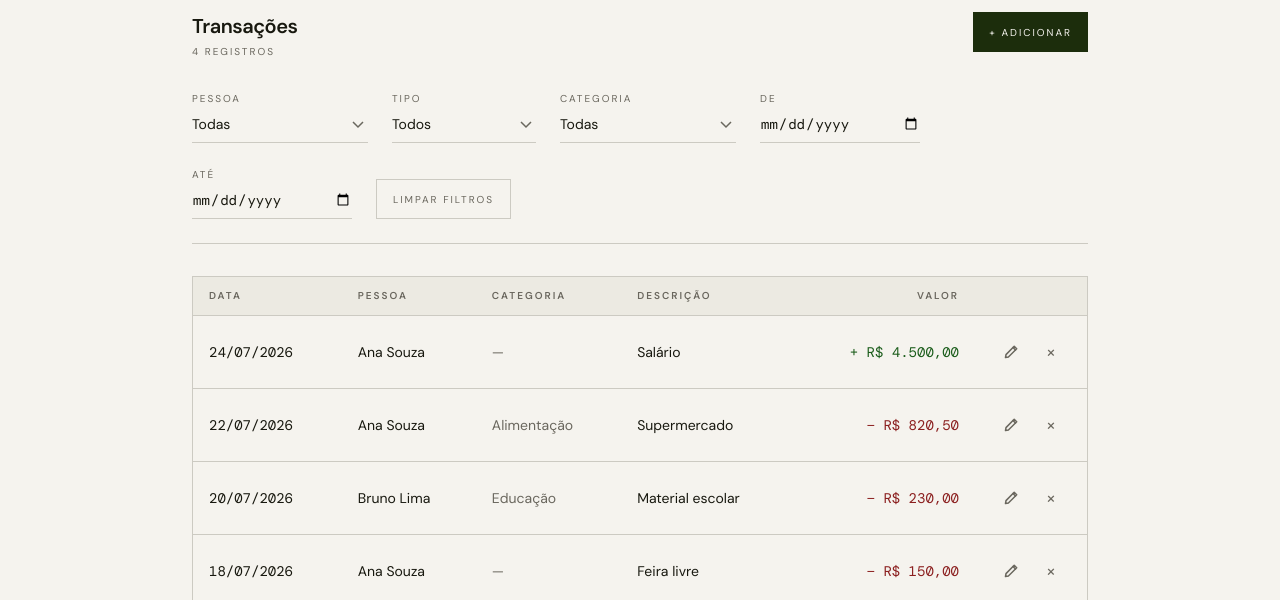
Scenario: transações › recusa valor menor ou igual a zero
Expected: the text "Supermercado" is shown, [621,389,794,462]
Click the button "+ Adicionar" at (1031, 32), box [973,12,1088,52]
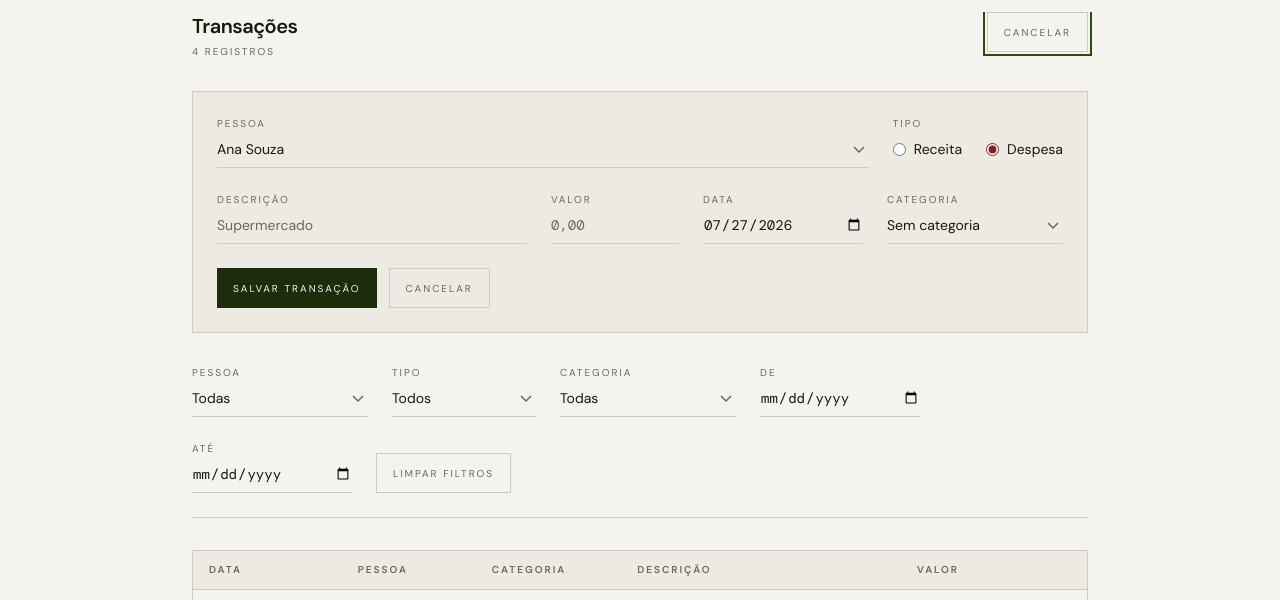
Type "Padaria" into the field labelled "Descrição" at (372, 226), box [217,207,527,244]
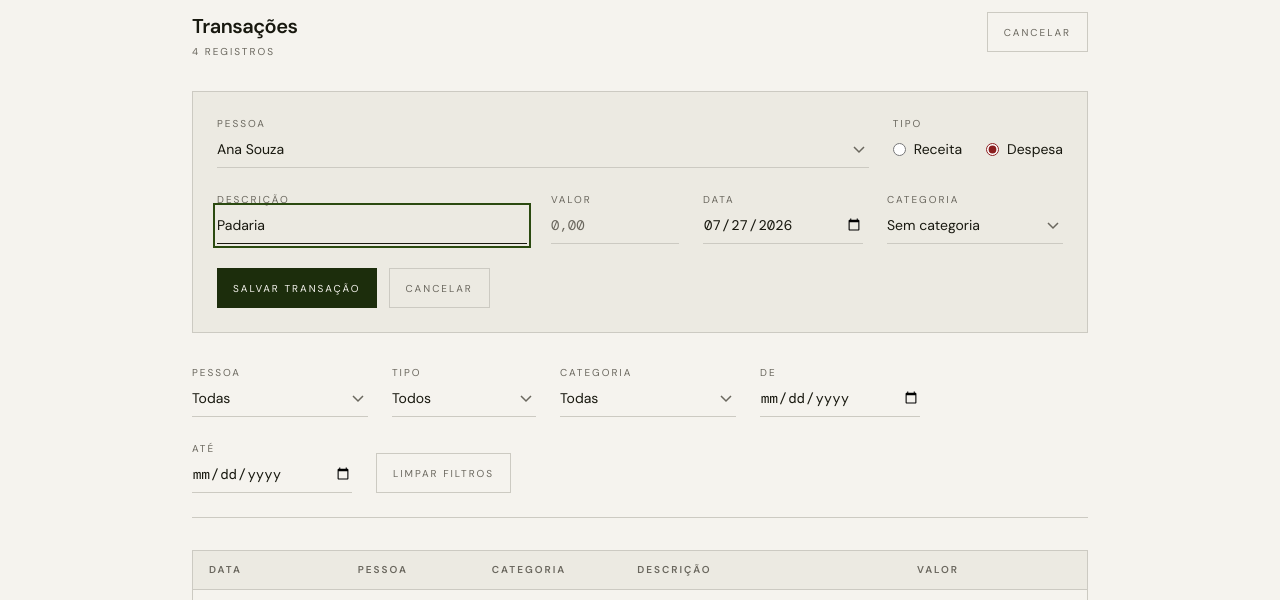
Type "0" into the number field labelled "Valor" at (615, 226), box [551,207,679,244]
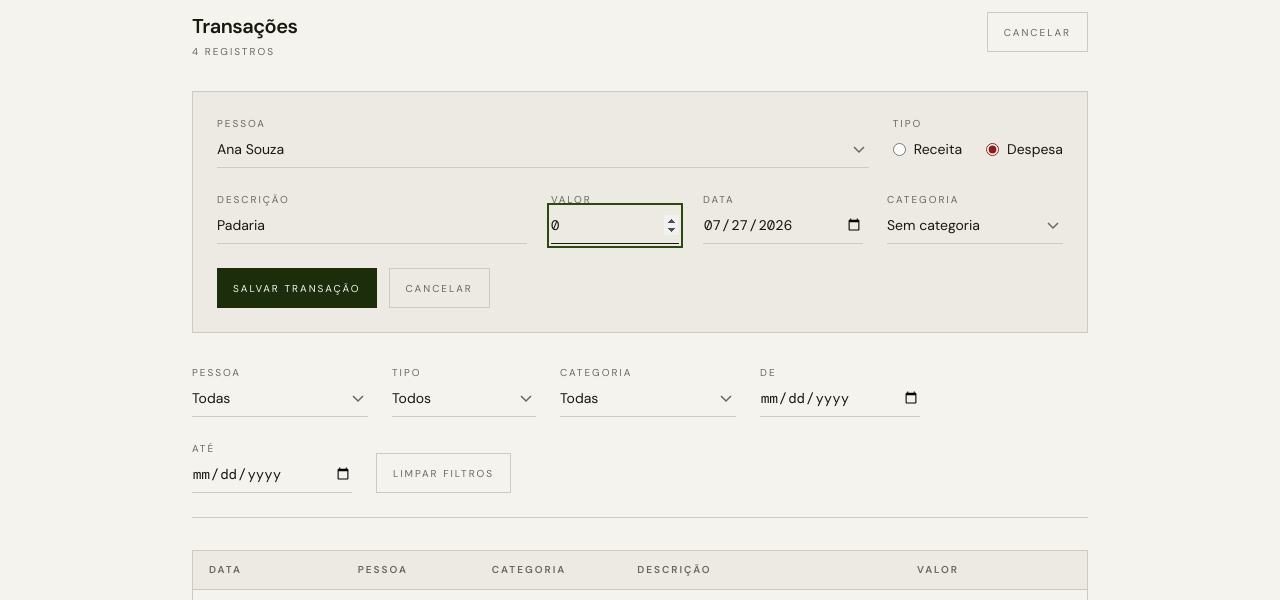
Click the button "Salvar transação" at (297, 288), box [217,268,377,308]
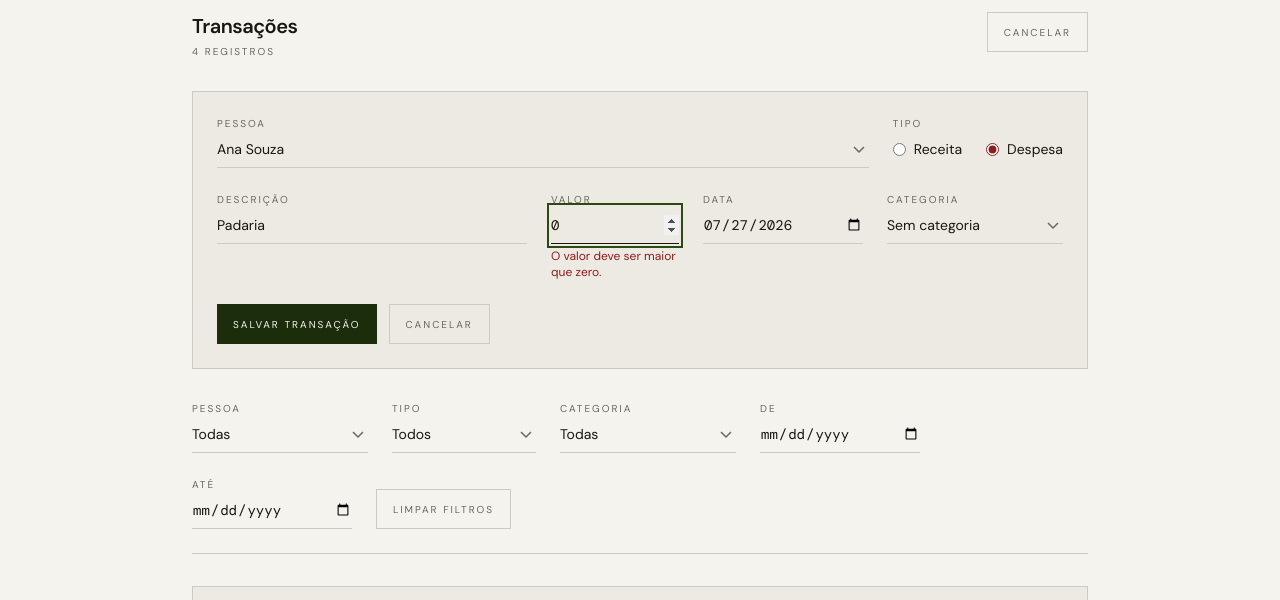
Expected: the text "O valor deve ser maior que zero." is shown, [551,248,679,280]
